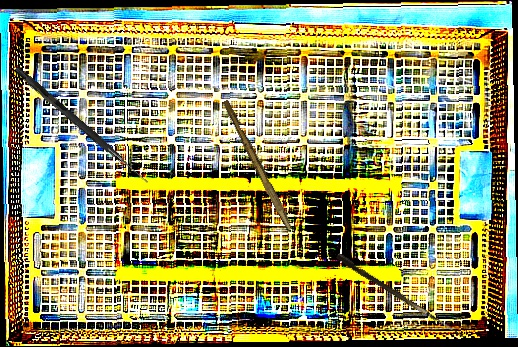Hook Surgical: (12, 66, 152, 185), (334, 252, 469, 339)
Scalpel Handle: (219, 99, 297, 231)
